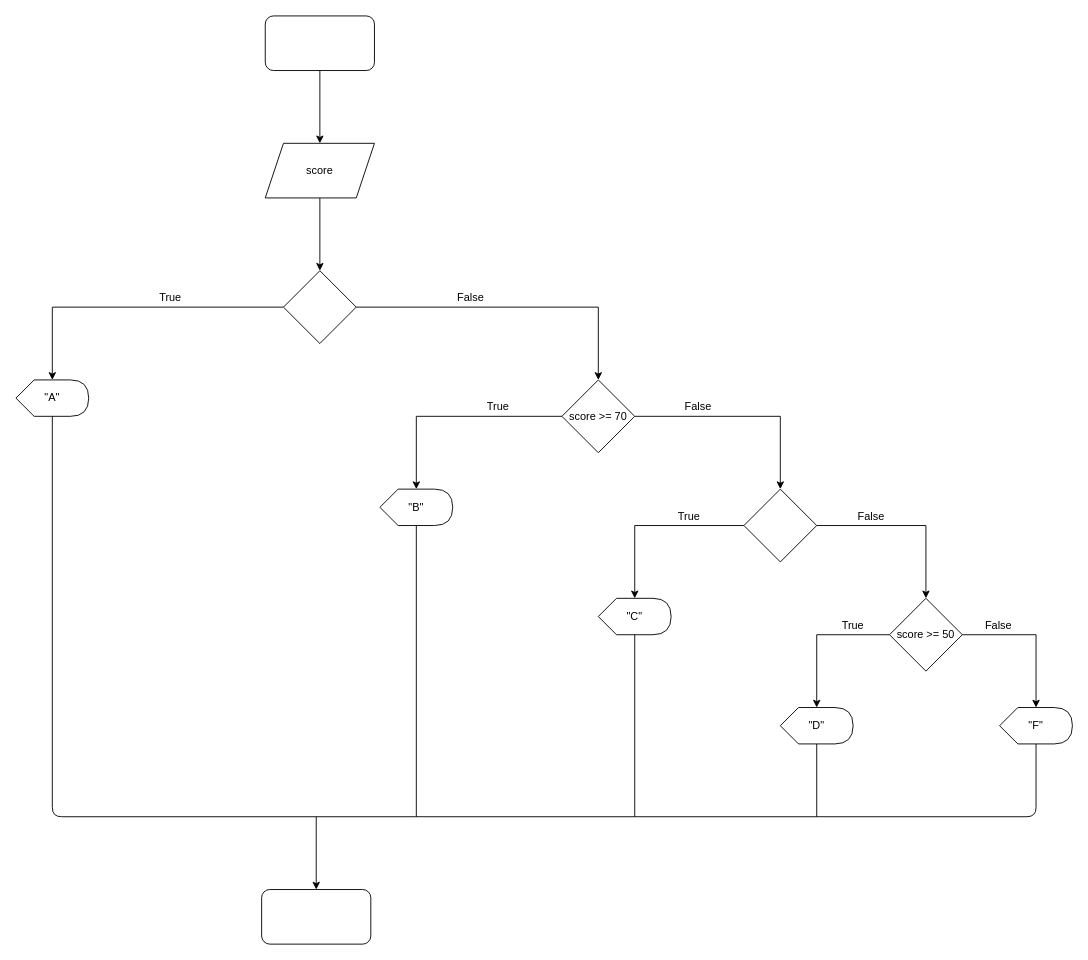
Image size: 1088x960. Some labels were removed from this diagram. Each missing label, with the box of its shape:
End: (261, 889, 371, 944)
score >= 60: (743, 488, 817, 562)
score >= 80: (283, 270, 356, 344)
start: (264, 15, 374, 71)
